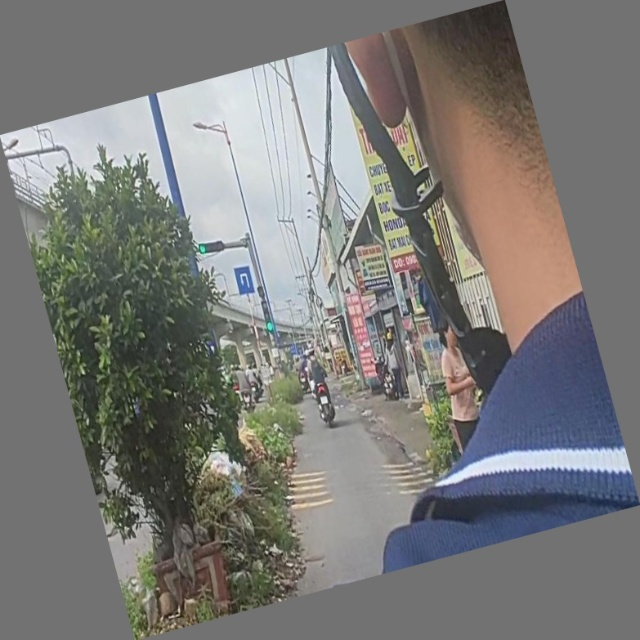I.409: (232, 262, 257, 300)
